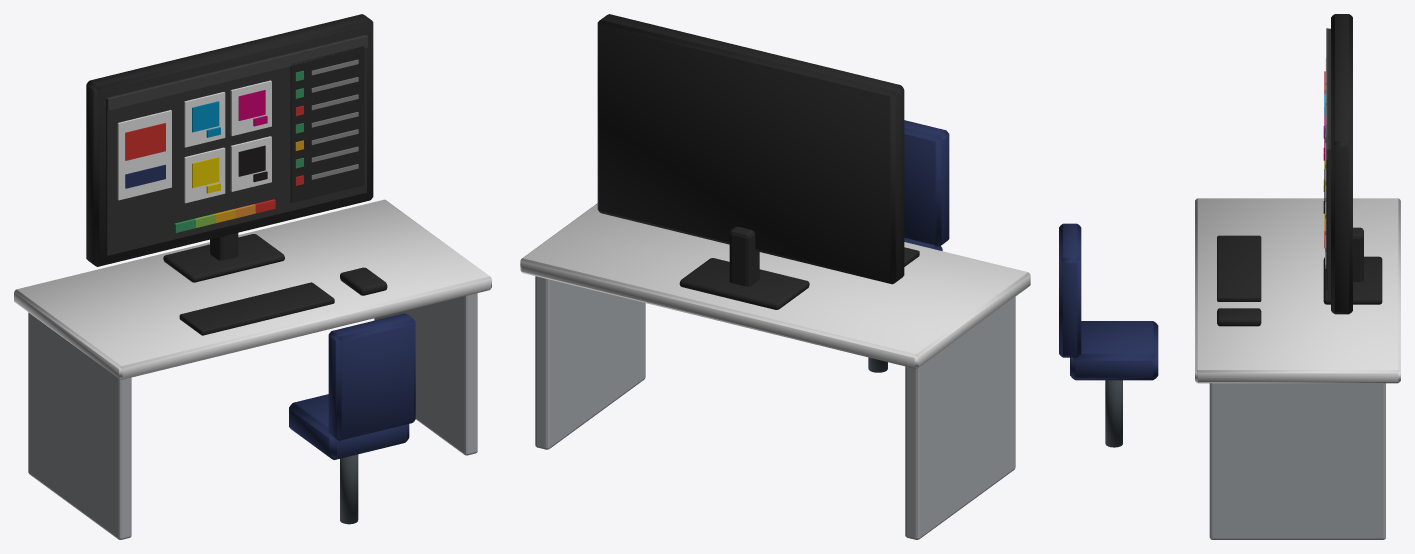
File: m_preflightstation.glb
3 views of the same model, side by side, from view 1: azimuth 30°, elevation 25°; view 2: azimuth 150°, elevation 25°; view 3: azimuth 270°, elevation 25° (orthographic). The views are drawn at different scales.
Visible parts, largest first — view 1: m_preflightstation; view 2: m_preflightstation; view 3: m_preflightstation.
Boxes of the visible parts, x1,y1,x2,y2 form: m_preflightstation: [14, 14, 491, 539]; m_preflightstation: [520, 14, 1030, 539]; m_preflightstation: [1059, 14, 1400, 539].
Bounding box in the file's own units: 0.56 × 0.57 × 0.465.
